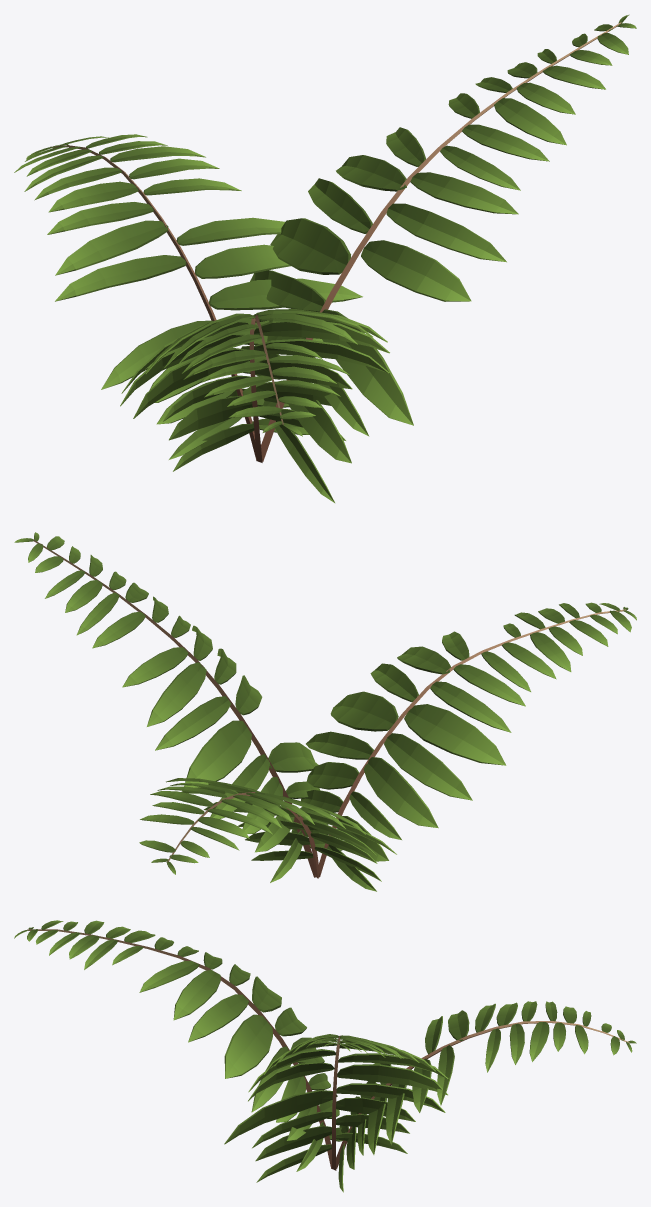
File: Cavern_Fern-01.fbx
3 views of the same model, one above another, from view 1: azimuth 30°, elevation 25°; view 2: azimuth 150°, elevation 25°; view 3: azimuth 270°, elevation 25° (orthographic). The views are drawn at different scales.
Visible parts, largest first — view 1: Cavern_Fern-01; view 2: Cavern_Fern-01; view 3: Cavern_Fern-01.
Part boxes in pixels (<box>): Cavern_Fern-01: <box>14,14,636,502</box>; Cavern_Fern-01: <box>14,532,636,891</box>; Cavern_Fern-01: <box>14,920,636,1192</box>.
Bounding box in the file's own units: 265 × 152 × 327.
1 material, 1 textured.
